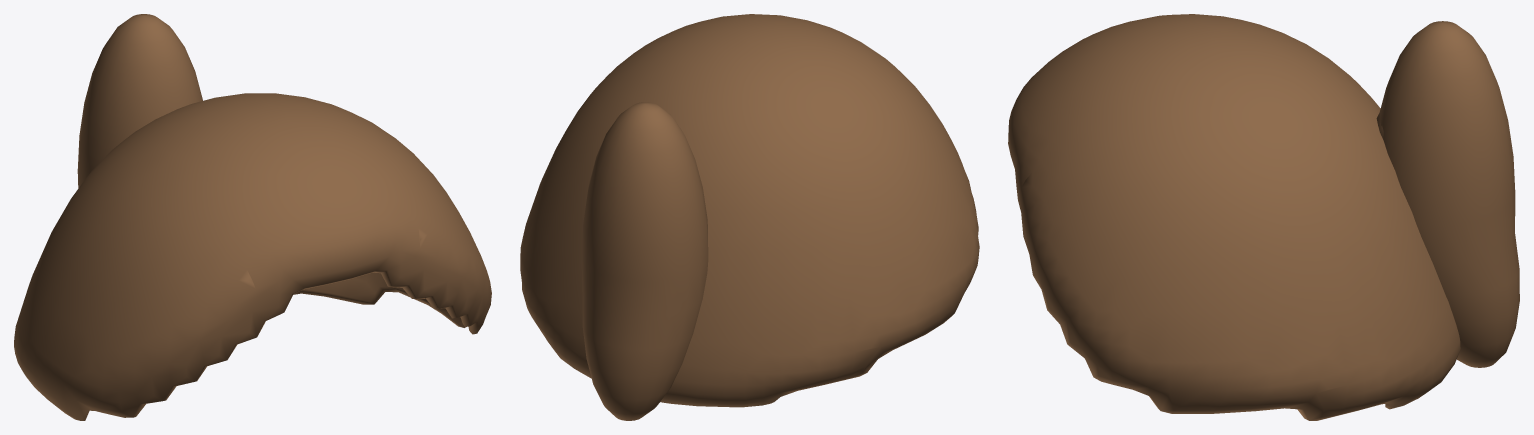
The model's file is f_pony.glb.
3 renders of one model, left to right at view 1: azimuth 30°, elevation 25°; view 2: azimuth 150°, elevation 25°; view 3: azimuth 270°, elevation 25°, orthographic. The views are drawn at different scales.
Visible parts, largest first — view 1: f_pony, f_pony_tail; view 2: f_pony, f_pony_tail; view 3: f_pony, f_pony_tail.
Part boxes in pixels (left/top/right/bottom): f_pony: left=14, top=93, right=491, bottom=420; f_pony_tail: left=77, top=14, right=202, bottom=188; f_pony: left=520, top=14, right=979, bottom=407; f_pony_tail: left=581, top=102, right=708, bottom=420; f_pony: left=1008, top=14, right=1460, bottom=420; f_pony_tail: left=1379, top=21, right=1519, bottom=367.
Bounding box in the file's own units: 2.17 × 1.56 × 2.12.
